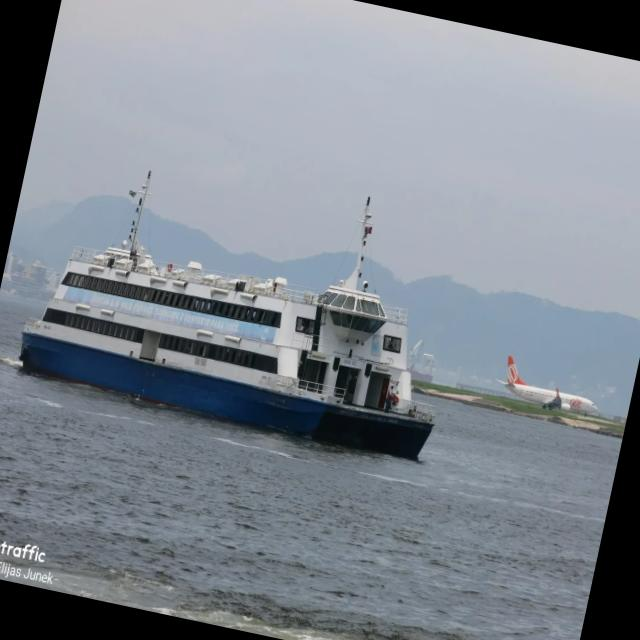Passenger: (19, 172, 433, 459)
